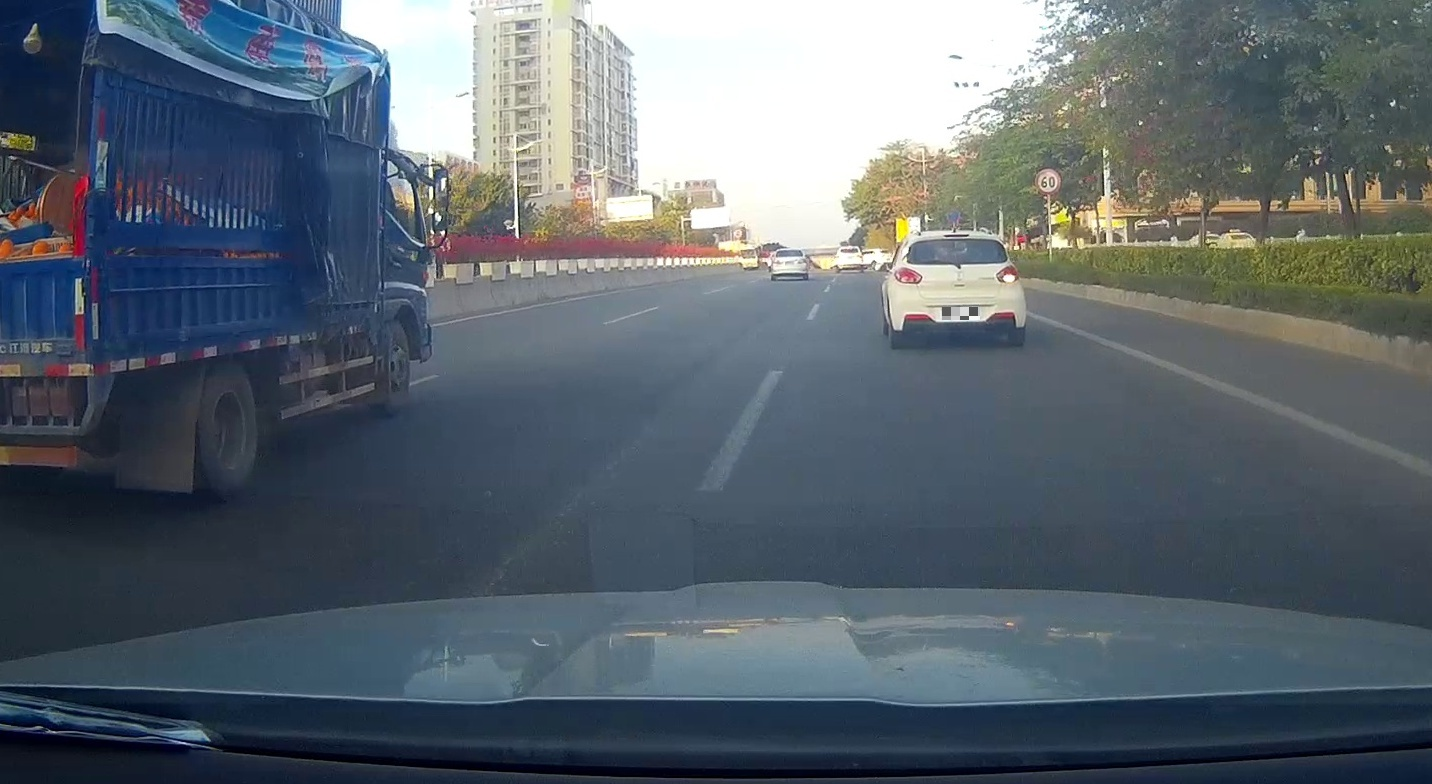L_light: (894, 267, 922, 284), (772, 259, 783, 264)
R_light: (996, 264, 1019, 283), (798, 258, 806, 264)
T_light: (944, 234, 970, 237), (786, 250, 791, 251)
day-no: (771, 248, 808, 281)
day-right: (888, 231, 1026, 349)
plate_1: (942, 307, 980, 320)
